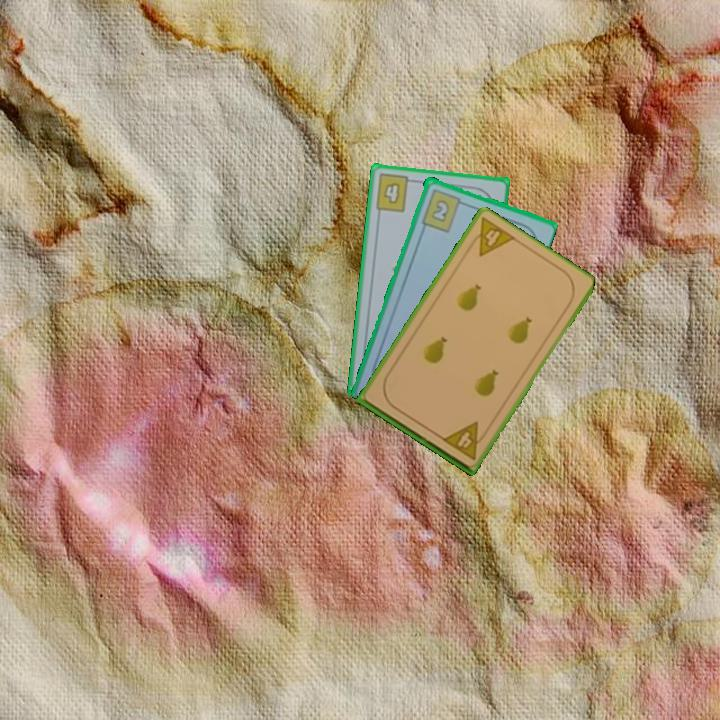2b: (418, 185, 469, 235)
4b: (372, 170, 418, 215)
4p: (463, 214, 518, 259), (438, 418, 491, 462)
